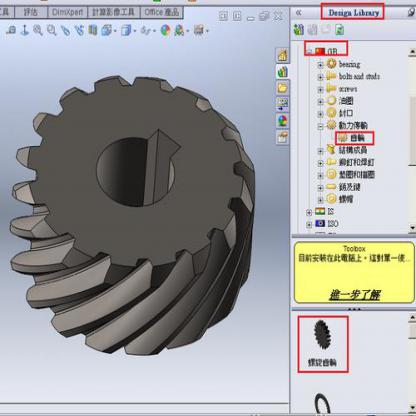FOD: (8, 68, 260, 364)
